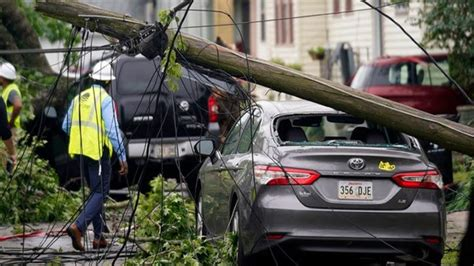pole: (43, 1, 281, 83)
